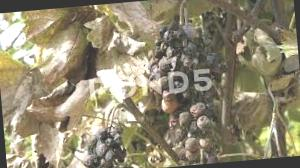Grape Rotten: (140, 15, 228, 167), (79, 122, 129, 168)
